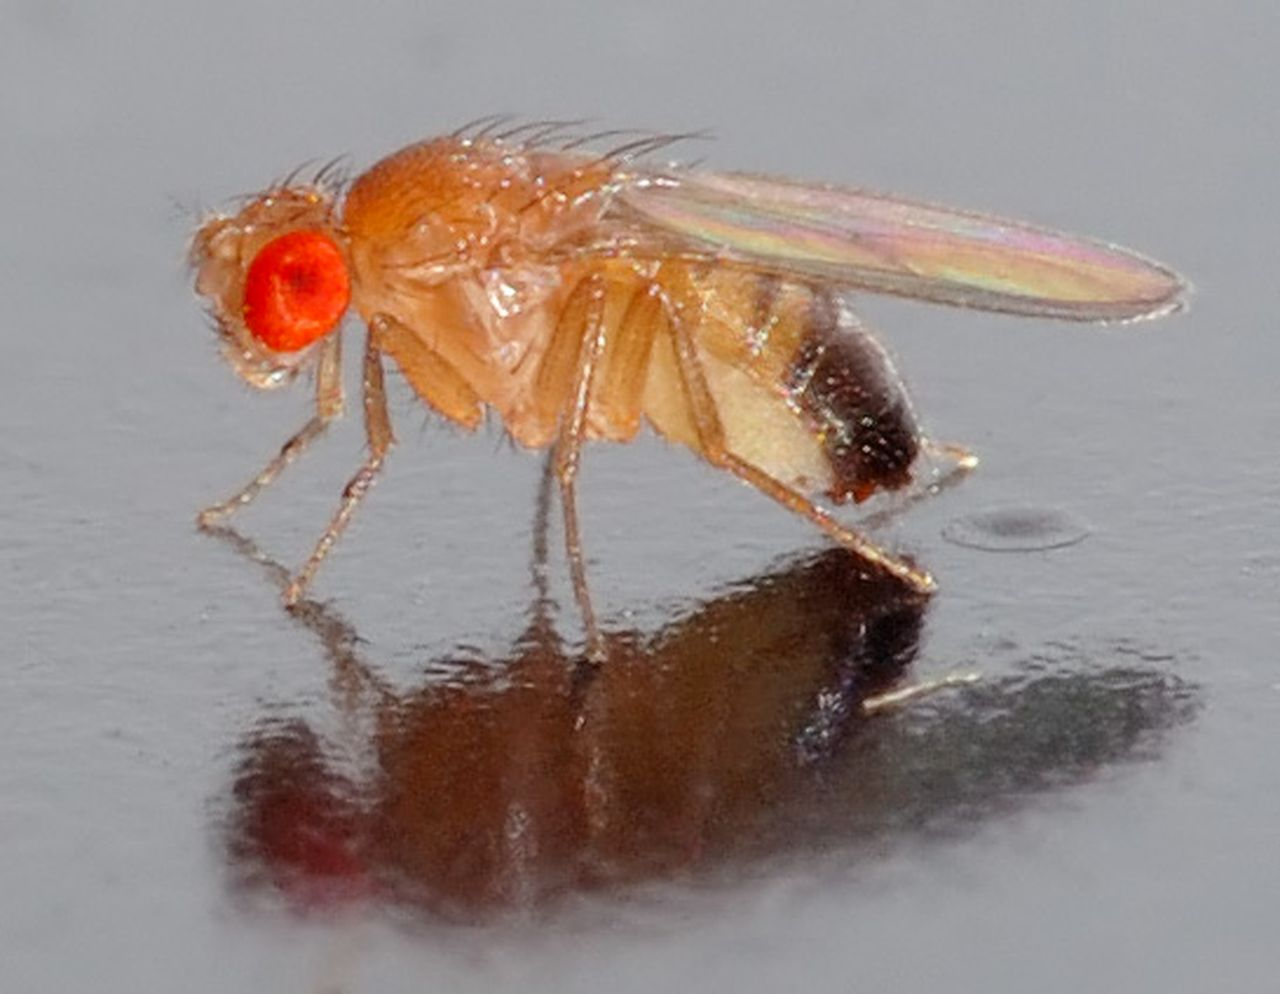Fruit fly: (175, 104, 910, 589)
